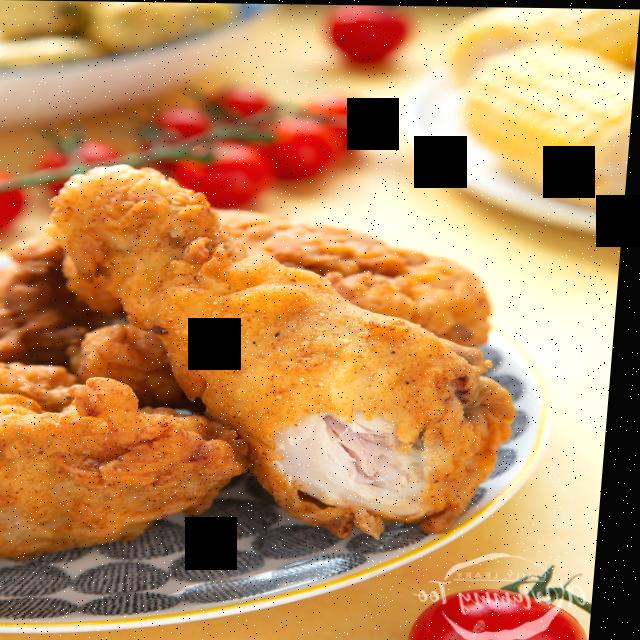Frango: (0, 158, 540, 566)
